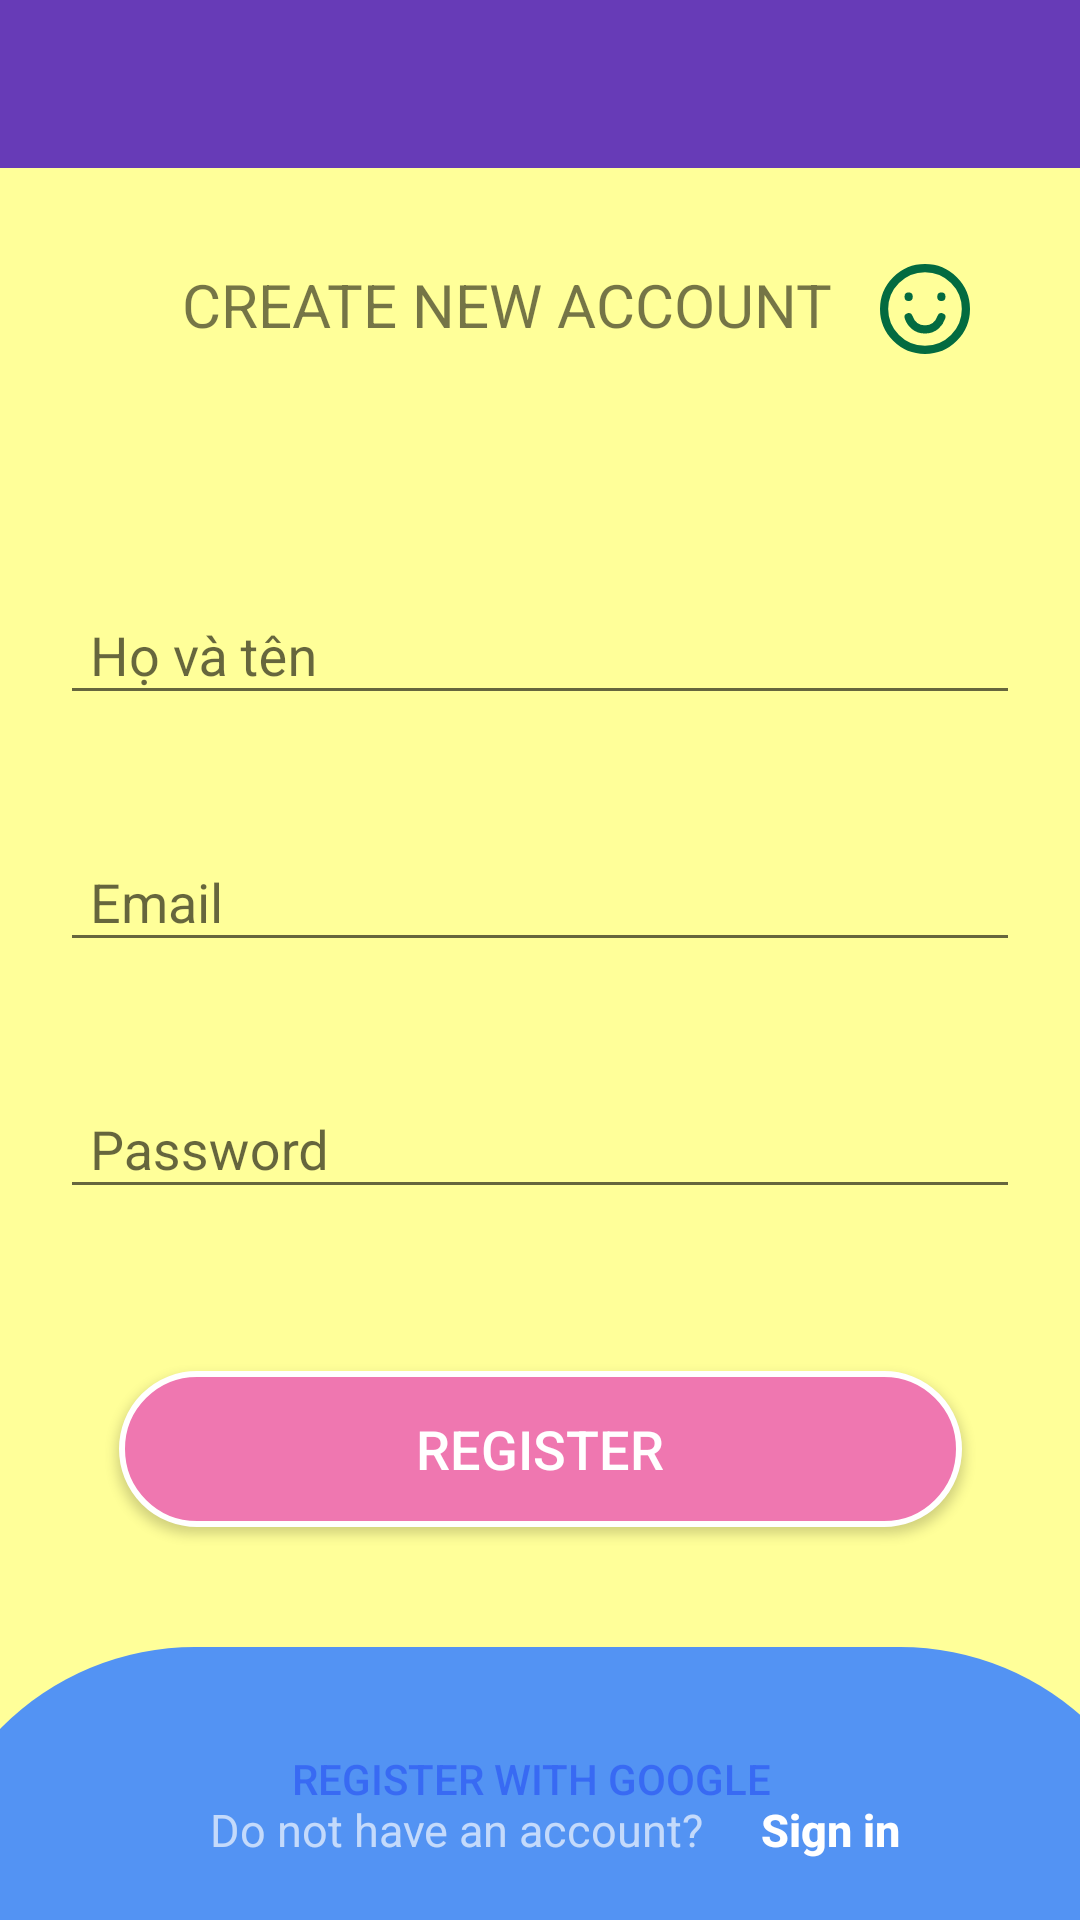

Screen size 1080×1920. Icon name, then its center in pixels as (x=x, y=y):
smile: (x=925, y=309)
